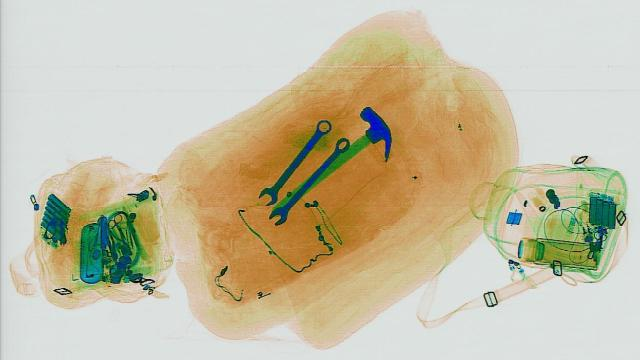Wrench: (260, 134, 358, 224), (249, 117, 337, 205)
